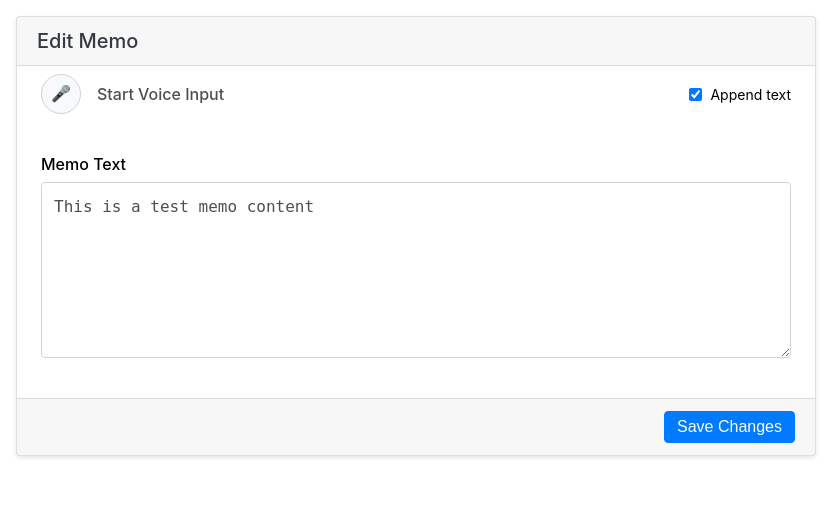
Test: MemoForm Component › shows error when memo update fails
// Change the text in the textarea
Replace the text in the text box with test id "memo-text-input" with "Updated memo text": (416, 270) [41,182,791,358]
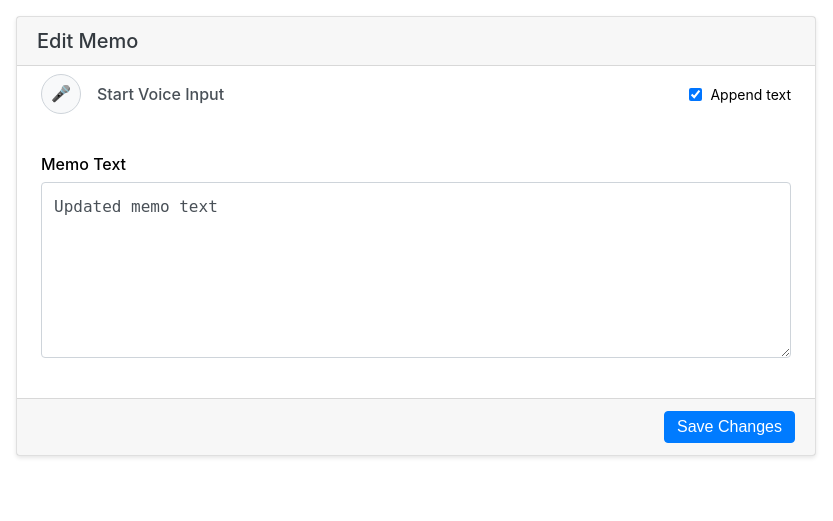
// Submit the form
Submit the form with test id "memo-form-element", box [17,130,815,455]
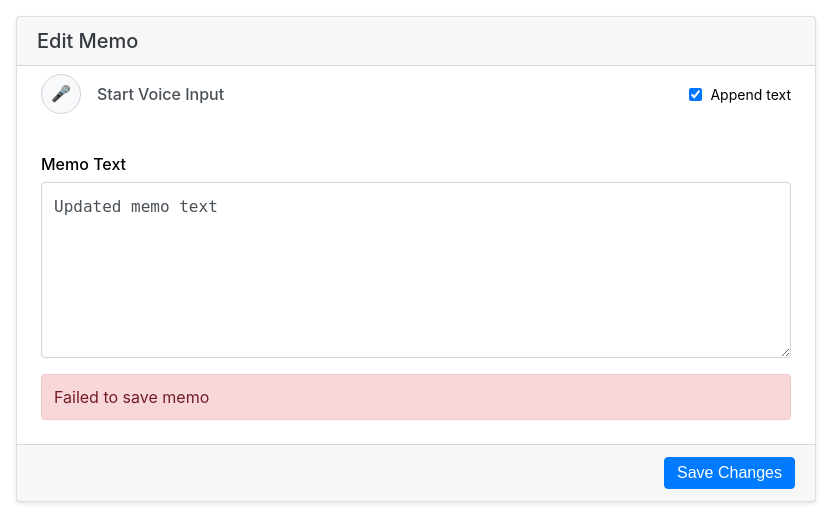
Now the text "Failed to save memo" is shown, box [41,374,791,420]
